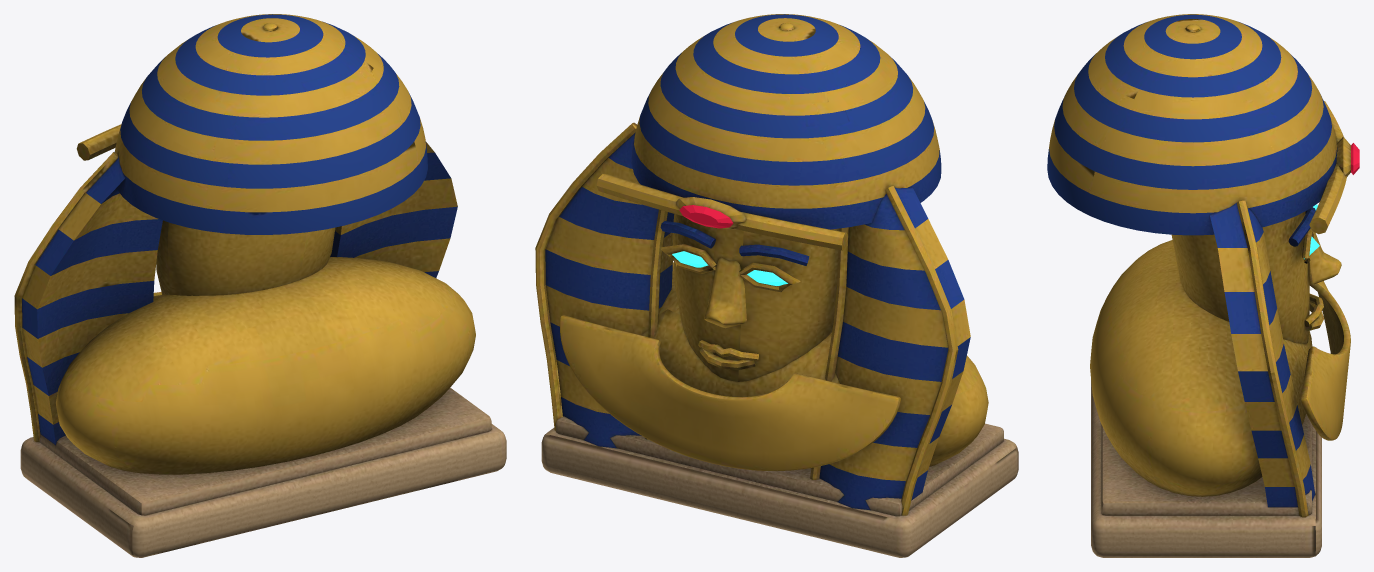
3 renders of one model, left to right at view 1: azimuth 30°, elevation 25°; view 2: azimuth 150°, elevation 25°; view 3: azimuth 270°, elevation 25°, orthographic. The views are drawn at different scales.
Parts seen in each view (by area): view 1: Royal_polished_gold, Lapis_blue_enamel, Carved_sandstone; view 2: Royal_polished_gold, Lapis_blue_enamel, Carved_sandstone, glow_Brow_red_garnet, glow_Living_turquoise_eyes; view 3: Royal_polished_gold, Lapis_blue_enamel, Carved_sandstone.
Part boxes in pixels (x1,y1,x2,y2): Royal_polished_gold: (14, 14, 475, 474); Lapis_blue_enamel: (22, 14, 457, 445); Carved_sandstone: (20, 387, 506, 557); Royal_polished_gold: (535, 14, 988, 515); Lapis_blue_enamel: (545, 14, 970, 510); Carved_sandstone: (541, 416, 1018, 557); glow_Brow_red_garnet: (679, 205, 733, 228); glow_Living_turquoise_eyes: (672, 251, 787, 285); Royal_polished_gold: (1049, 14, 1350, 517); Lapis_blue_enamel: (1047, 14, 1337, 507); Carved_sandstone: (1091, 346, 1321, 557).
Size of the model in its own units: 2.16 by 2.2 by 1.39.
Materials: 6 (4 with a texture image).
